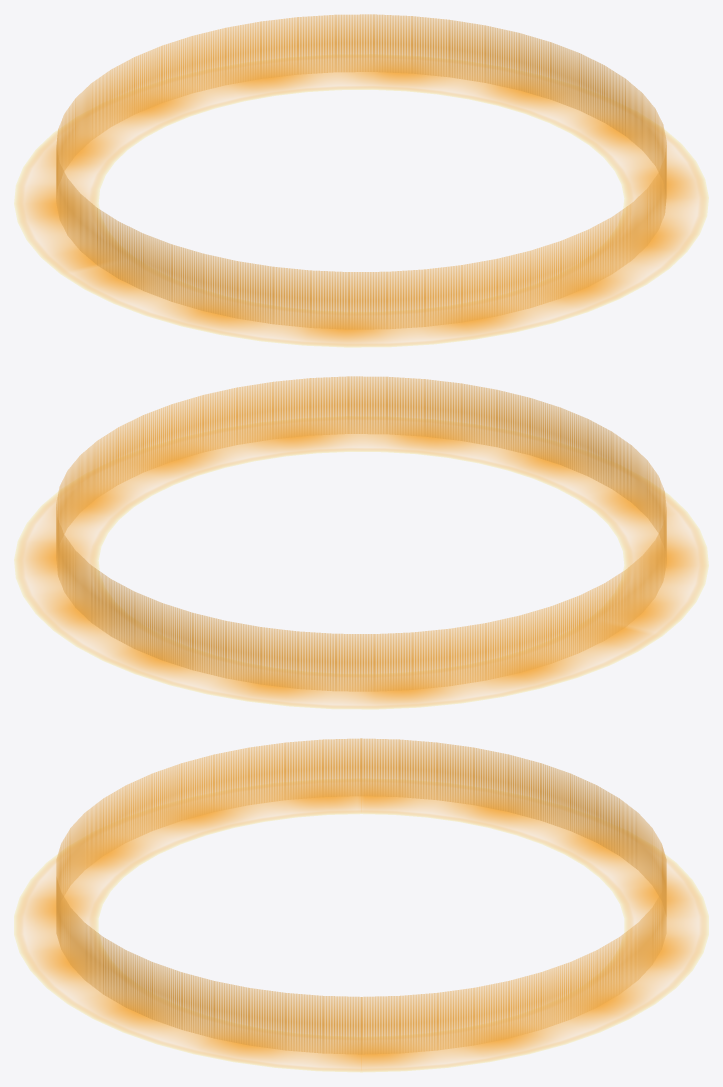
The model's file is fx_mring1.glb.
3 views of the same model, one above another, from view 1: azimuth 30°, elevation 25°; view 2: azimuth 150°, elevation 25°; view 3: azimuth 270°, elevation 25° (orthographic).
Parts seen in each view (by area): view 1: fx_burst; view 2: fx_burst; view 3: fx_burst.
Boxes of the visible parts, x1,y1,x2,y2 form: fx_burst: (14, 14, 708, 347); fx_burst: (14, 376, 708, 709); fx_burst: (14, 738, 708, 1072).
Bounding box in the file's own units: 16.4 × 1.5 × 16.37.
1 material, 1 textured.
